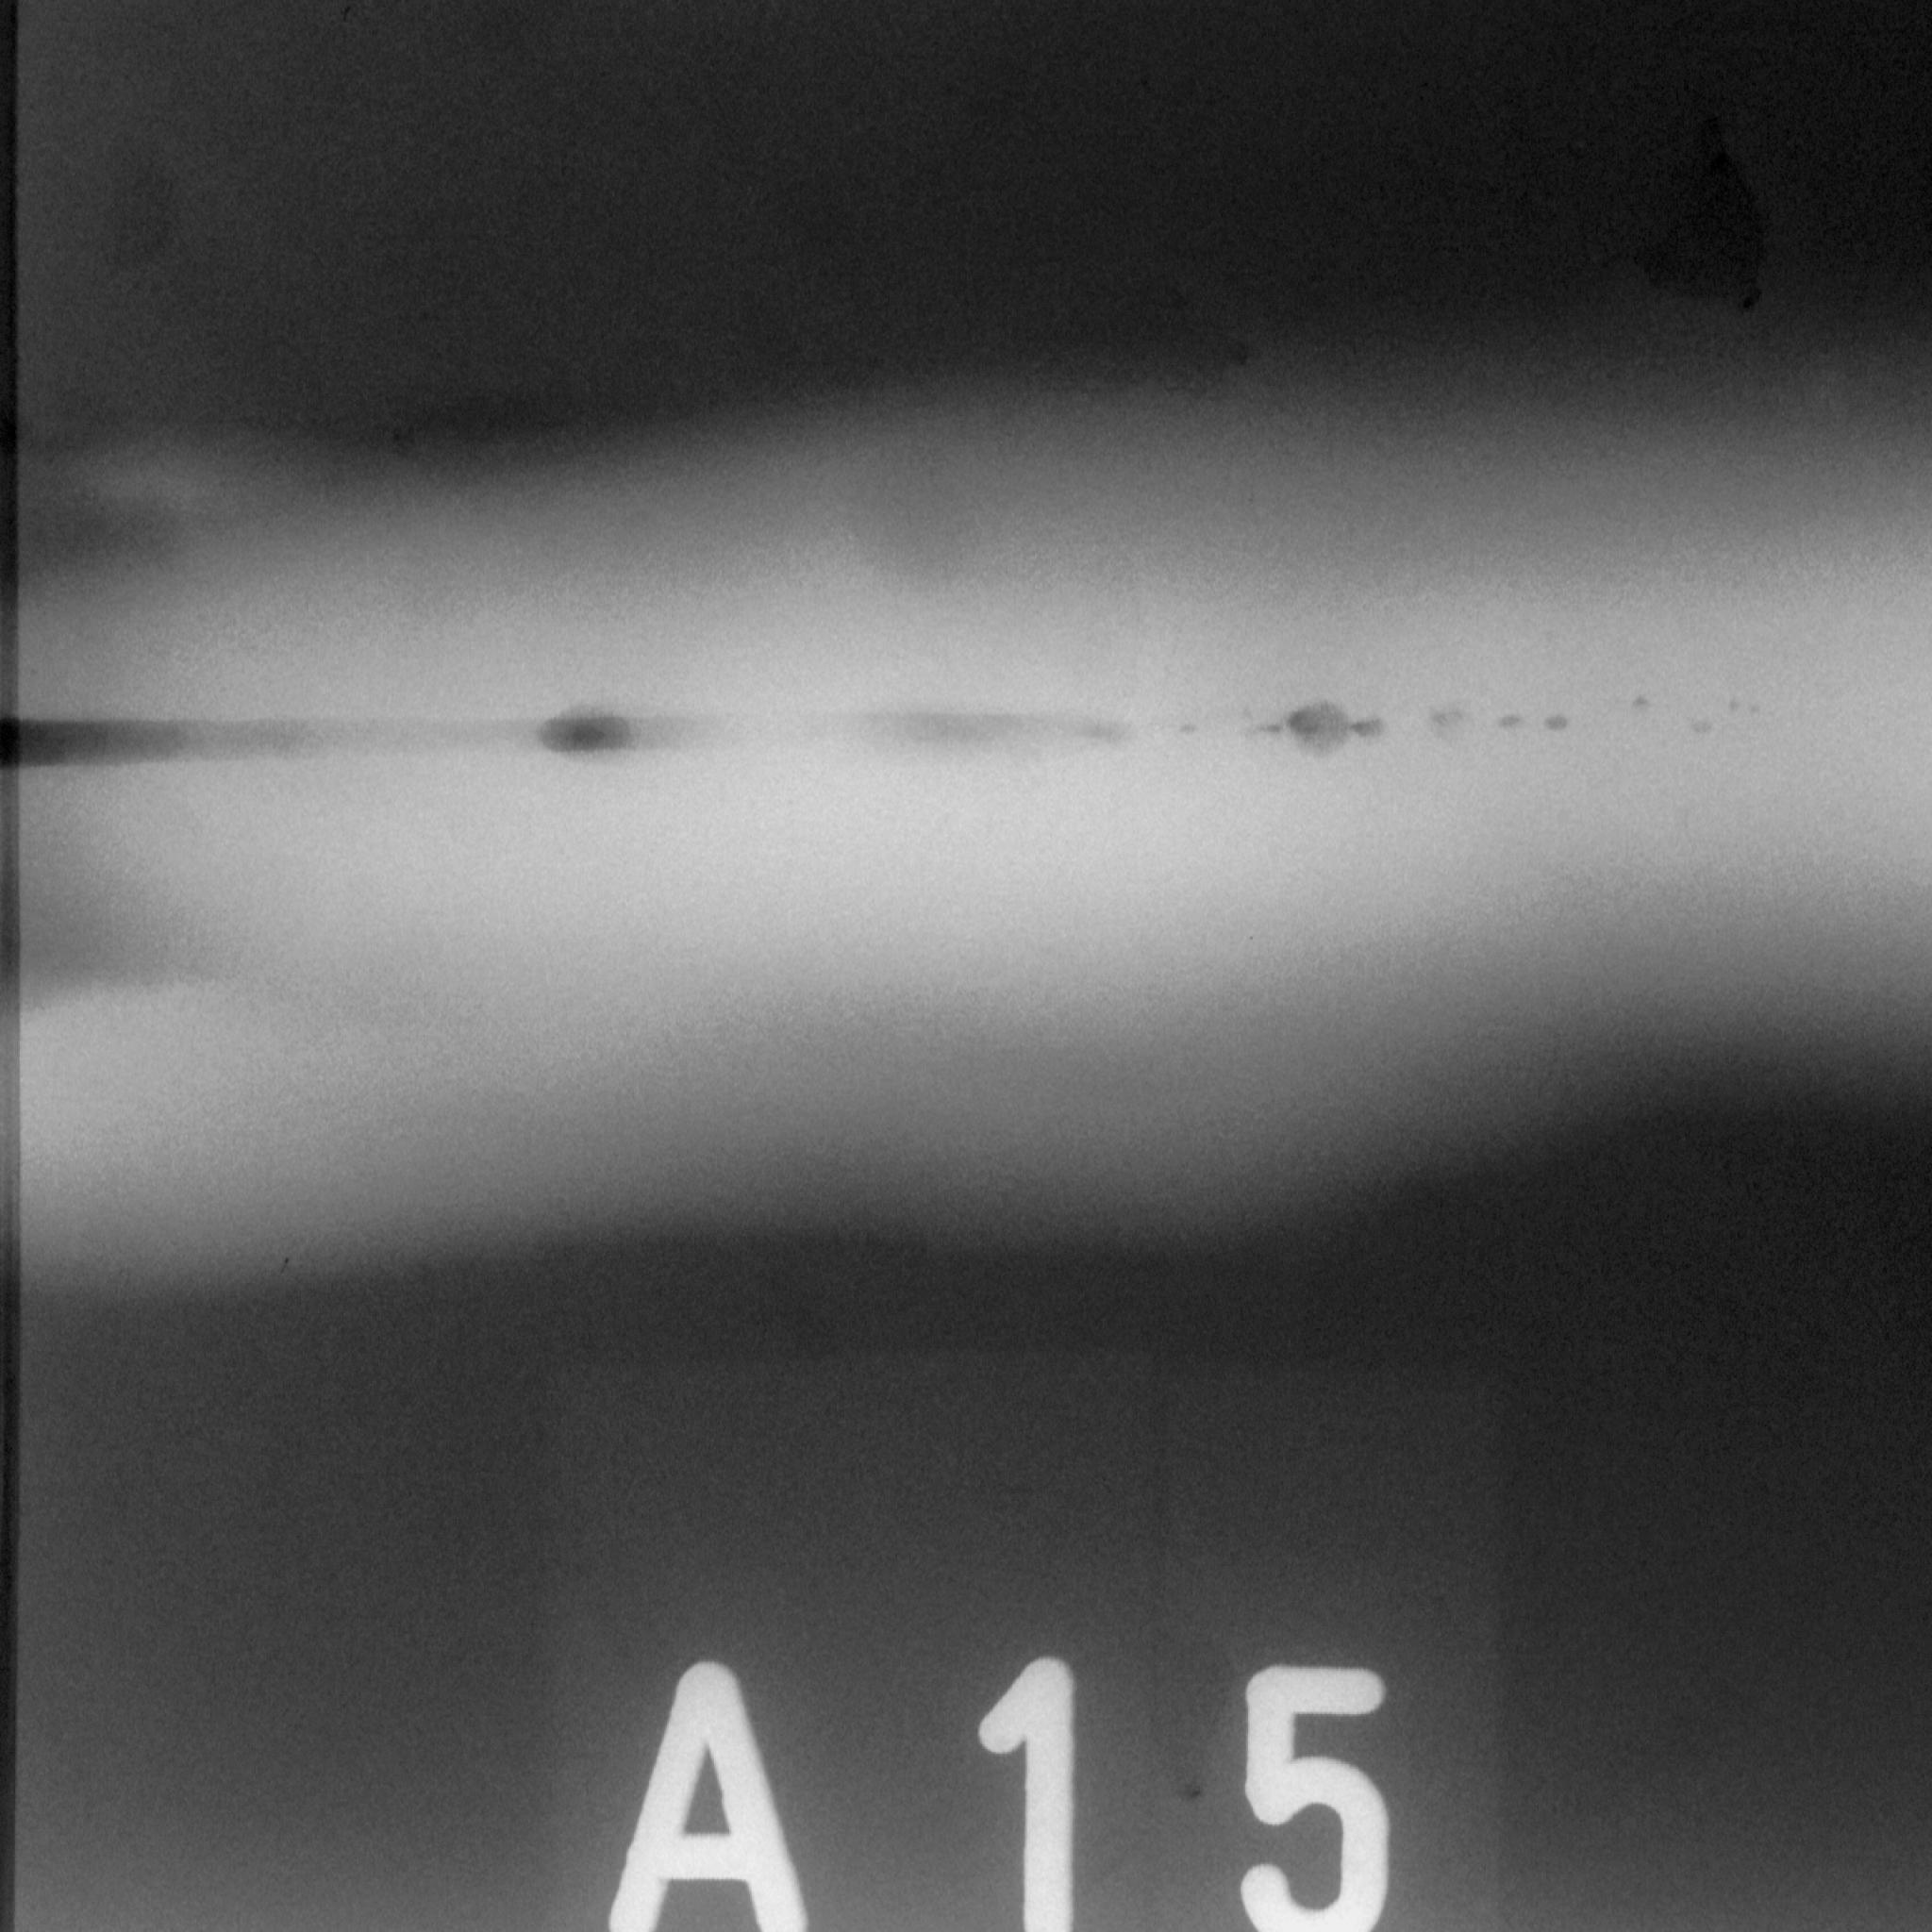FP: (0, 625, 1419, 828)
PO: (1628, 687, 1657, 721), (1543, 709, 1575, 738)
